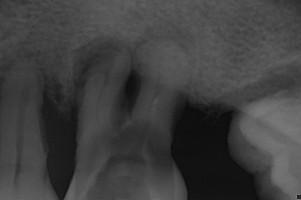Dental Caries: (72, 17, 198, 118)
